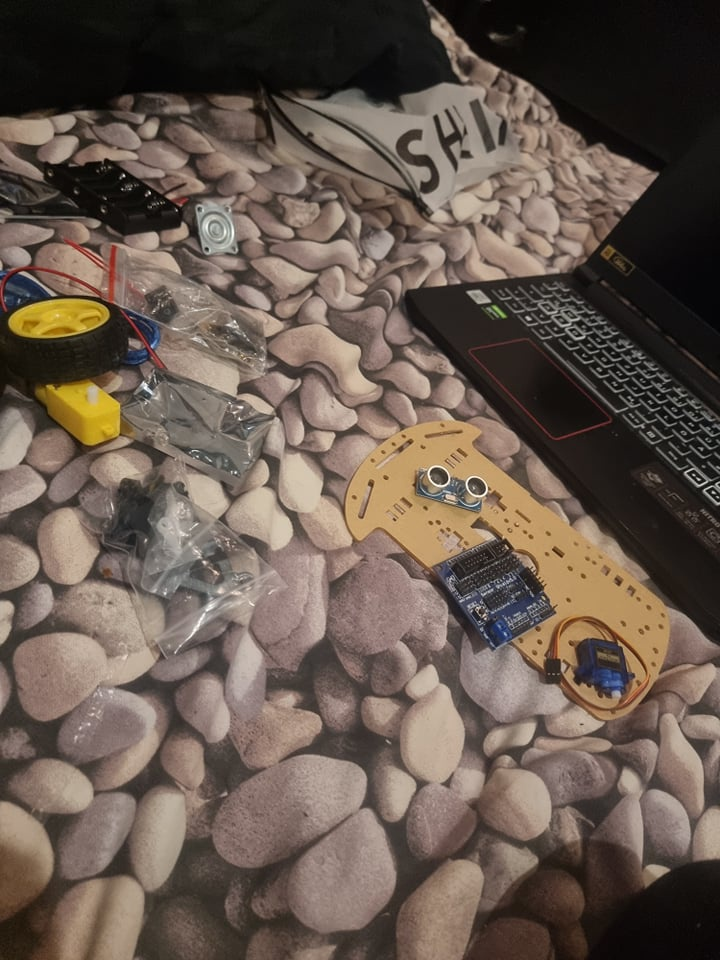5V EXPANSION: (428, 537, 559, 651)
BATTERY BOX: (40, 141, 181, 238)
SENSOR: (414, 463, 490, 513)
